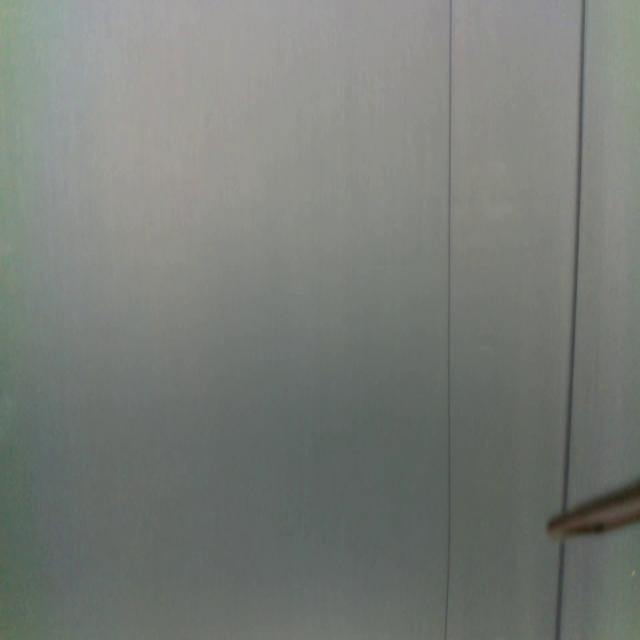crease: (562, 1, 588, 502), (443, 1, 454, 640), (555, 543, 567, 640)
